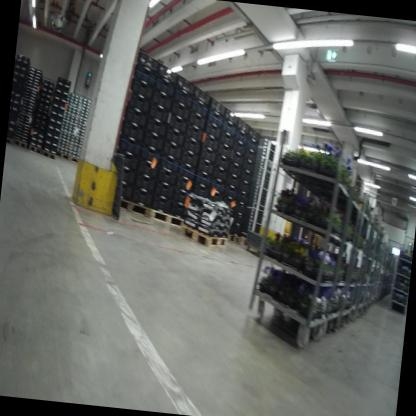pallet: (179, 216, 233, 251), (116, 194, 154, 220), (150, 205, 185, 228), (239, 232, 257, 248), (12, 137, 28, 149), (40, 148, 56, 160), (56, 149, 71, 161), (26, 144, 43, 154), (69, 155, 84, 166), (229, 232, 240, 243), (6, 134, 13, 146)
